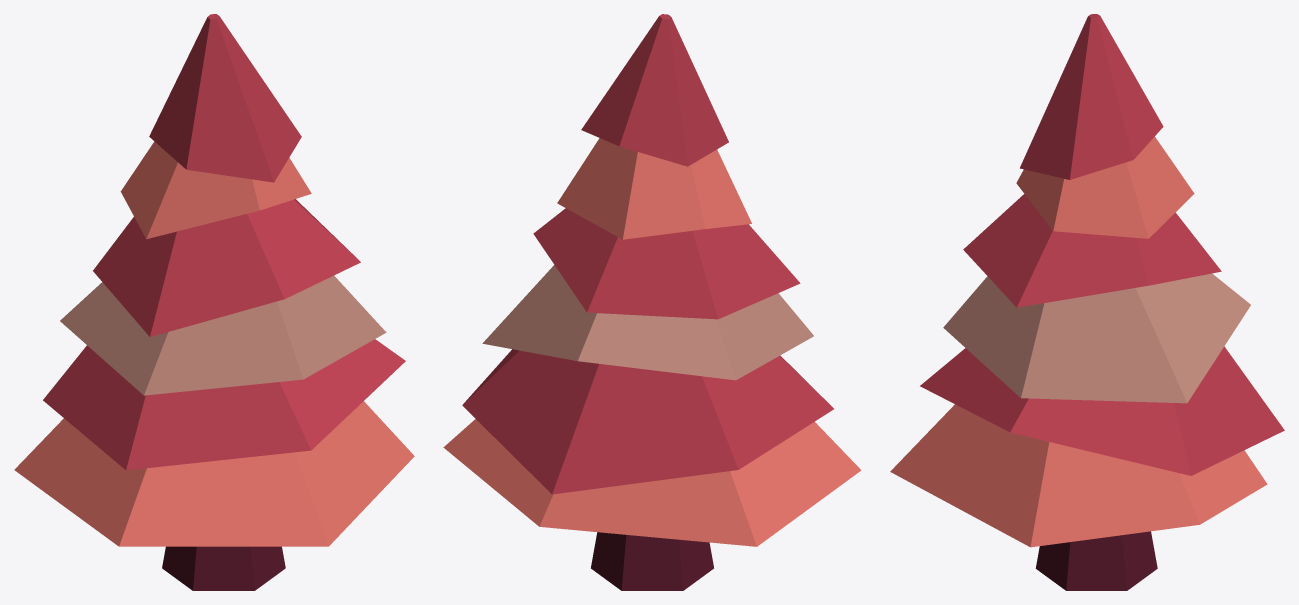
The model's file is Tree2_Pink_B.fbx.
3 renders of one model, left to right at view 1: azimuth 30°, elevation 25°; view 2: azimuth 150°, elevation 25°; view 3: azimuth 270°, elevation 25°, orthographic.
Visible parts, largest first — view 1: Tree_2_Pink; view 2: Tree_2_Pink; view 3: Tree_2_Pink.
Boxes of the visible parts, <box> form: Tree_2_Pink: <box>14,14,414,590</box>; Tree_2_Pink: <box>443,14,861,590</box>; Tree_2_Pink: <box>890,14,1284,590</box>.
Bounding box in the file's own units: 587 × 990 × 647.
